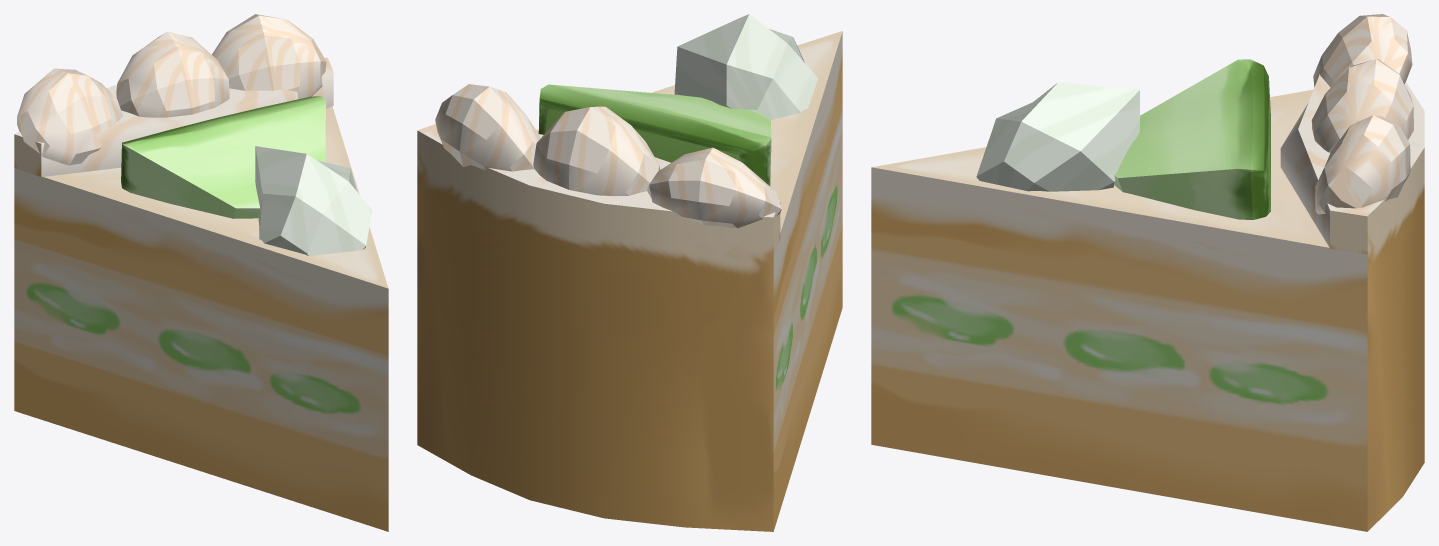
The model's file is meloncake3.fbx.
The picture shows the model from 3 angles, left to right: view 1: azimuth 30°, elevation 25°; view 2: azimuth 150°, elevation 25°; view 3: azimuth 270°, elevation 25°; orthographic projection. The views are drawn at different scales.
Parts seen in each view (by area): view 1: pCube1, pCube5, pCube6, pCube7, pCube8, pCube9; view 2: pCube1, pCube5, pCube6, pCube7, pCube8, pCube9; view 3: pCube1, pCube5, pCube6, pCube9, pCube7, pCube8.
Boxes of the visible parts, bbox=[...] form: pCube1: bbox=[14, 57, 388, 531]; pCube5: bbox=[121, 96, 325, 218]; pCube6: bbox=[255, 146, 372, 255]; pCube7: bbox=[116, 31, 229, 117]; pCube8: bbox=[17, 68, 122, 165]; pCube9: bbox=[212, 14, 326, 99]; pCube1: bbox=[417, 31, 842, 531]; pCube5: bbox=[538, 84, 771, 186]; pCube6: bbox=[674, 14, 818, 119]; pCube7: bbox=[533, 106, 660, 196]; pCube8: bbox=[647, 147, 781, 228]; pCube9: bbox=[435, 84, 540, 171]; pCube1: bbox=[871, 74, 1424, 531]; pCube5: bbox=[1114, 59, 1270, 219]; pCube6: bbox=[976, 82, 1139, 191]; pCube9: bbox=[1315, 115, 1410, 214]; pCube7: bbox=[1311, 59, 1413, 152]; pCube8: bbox=[1313, 14, 1412, 87].
Bounding box in the file's own units: 2.04 × 2.11 × 2.74.
